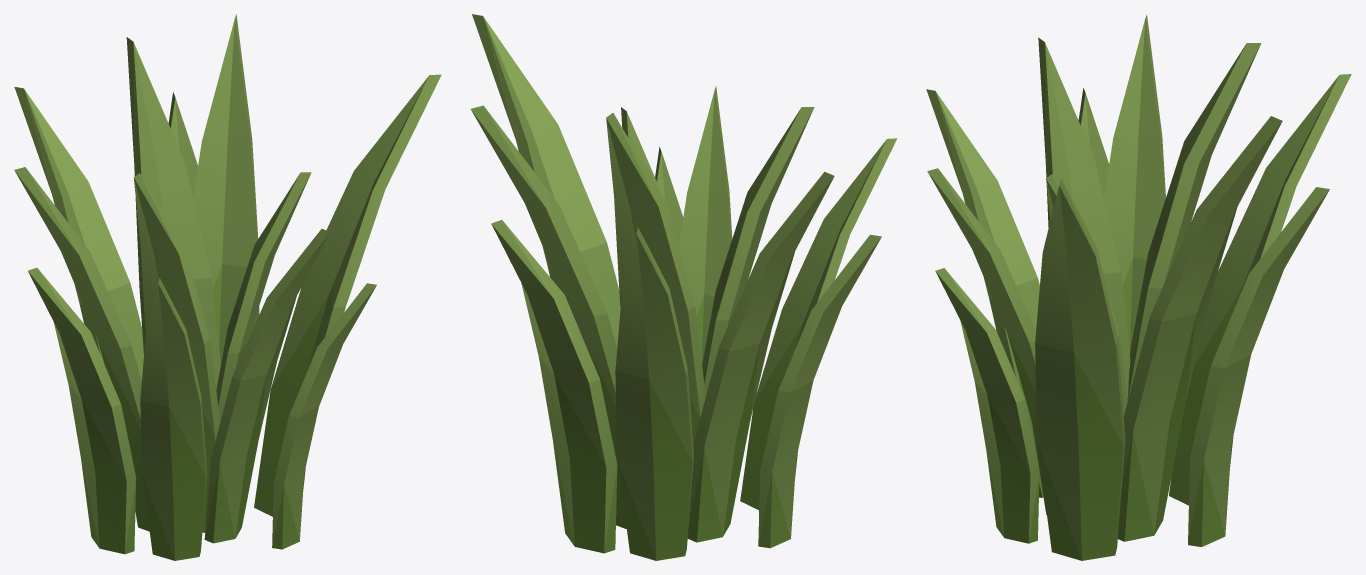
The model's file is itch_kaykit_forest_grass_2_c_color1.glb.
The picture shows the model from 3 angles, left to right: view 1: azimuth 30°, elevation 25°; view 2: azimuth 150°, elevation 25°; view 3: azimuth 270°, elevation 25°; orthographic projection. The views are drawn at different scales.
Parts seen in each view (by area): view 1: Grass_2_C_Color1; view 2: Grass_2_C_Color1; view 3: Grass_2_C_Color1.
Part boxes in pixels (x1=…): Grass_2_C_Color1: x1=14, y1=14, x2=441, y2=560; Grass_2_C_Color1: x1=470, y1=14, x2=897, y2=560; Grass_2_C_Color1: x1=926, y1=14, x2=1351, y2=560.
Size of the model in its own units: 0.96 by 1 by 0.8111.
